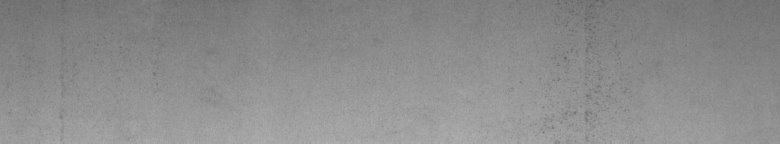ib: (545, 57, 600, 129)
